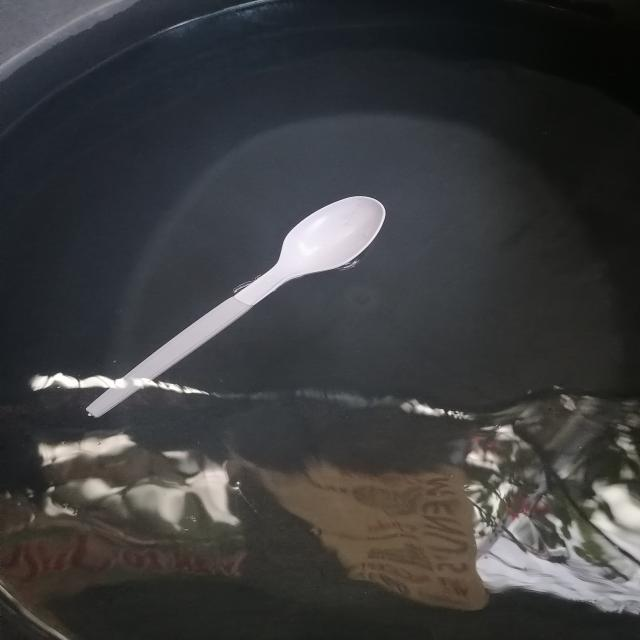Plastic Spoon: (87, 196, 385, 417)
